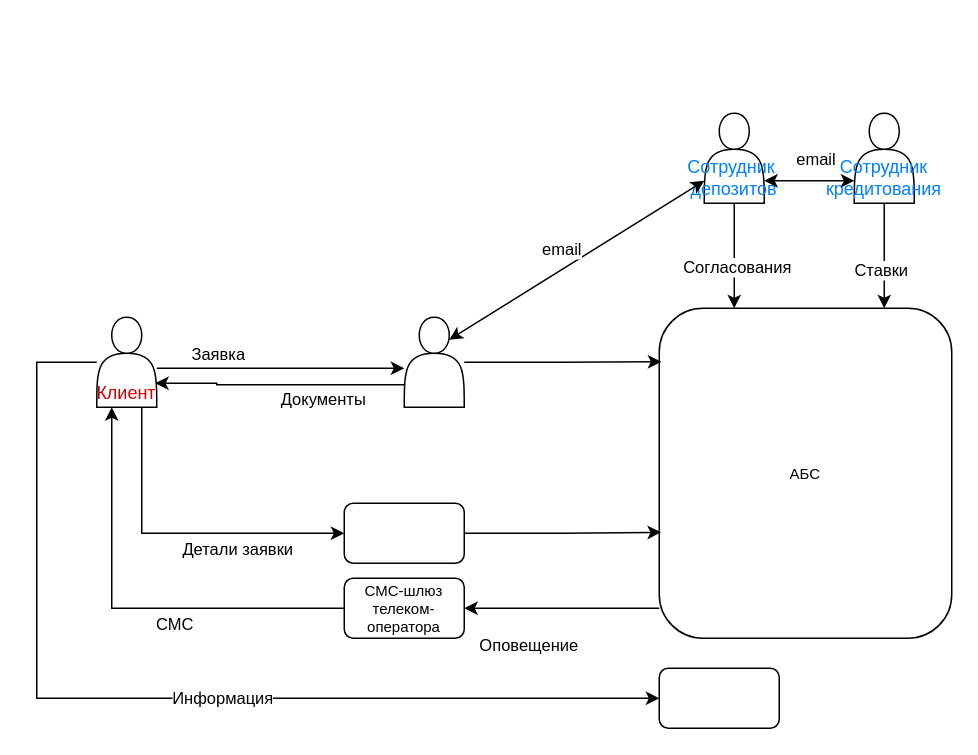
Image size: 978x755. Some labels were removed from this diagram. Here are the shapes that lost their labels. From the top down, the centre of each, then its label:
At [433,361]: "Сотрудник отделения".
At [403,532]: "Система кол-центра".
At [718,697]: "Сайт".
